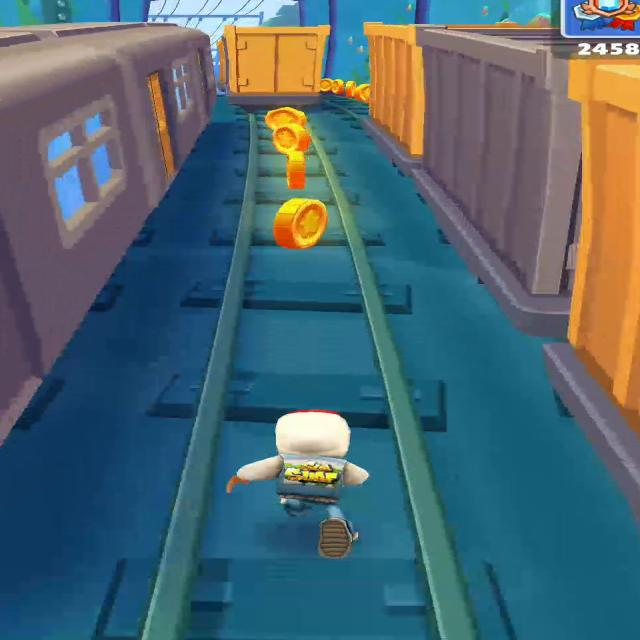train: (0, 22, 215, 440), (415, 28, 581, 336), (569, 60, 639, 417), (225, 26, 330, 106), (365, 23, 425, 163)
